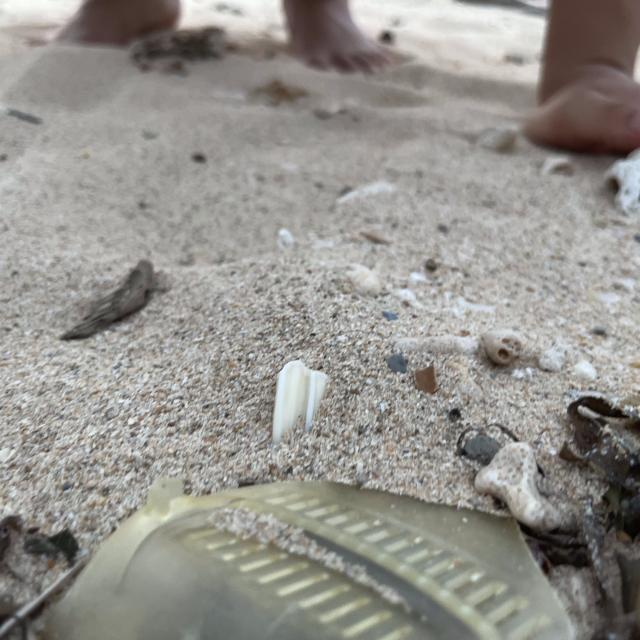coral: (473, 433, 566, 547)
feet: (524, 50, 640, 153), (272, 0, 403, 73), (71, 0, 187, 39)
shell: (270, 350, 333, 448)
stick: (69, 257, 168, 348)
trash: (29, 462, 581, 640)
